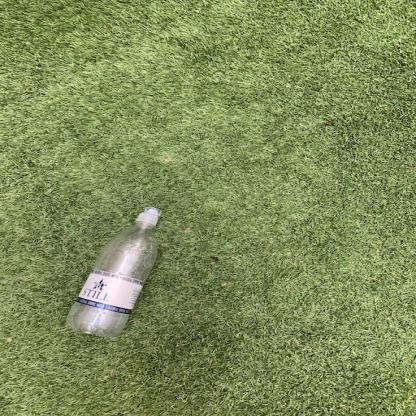trash: (64, 203, 161, 340)
